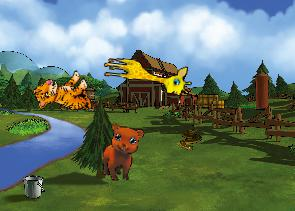bear: (102, 123, 144, 182)
giraffe: (100, 56, 193, 97)
tiger: (30, 64, 97, 127)
